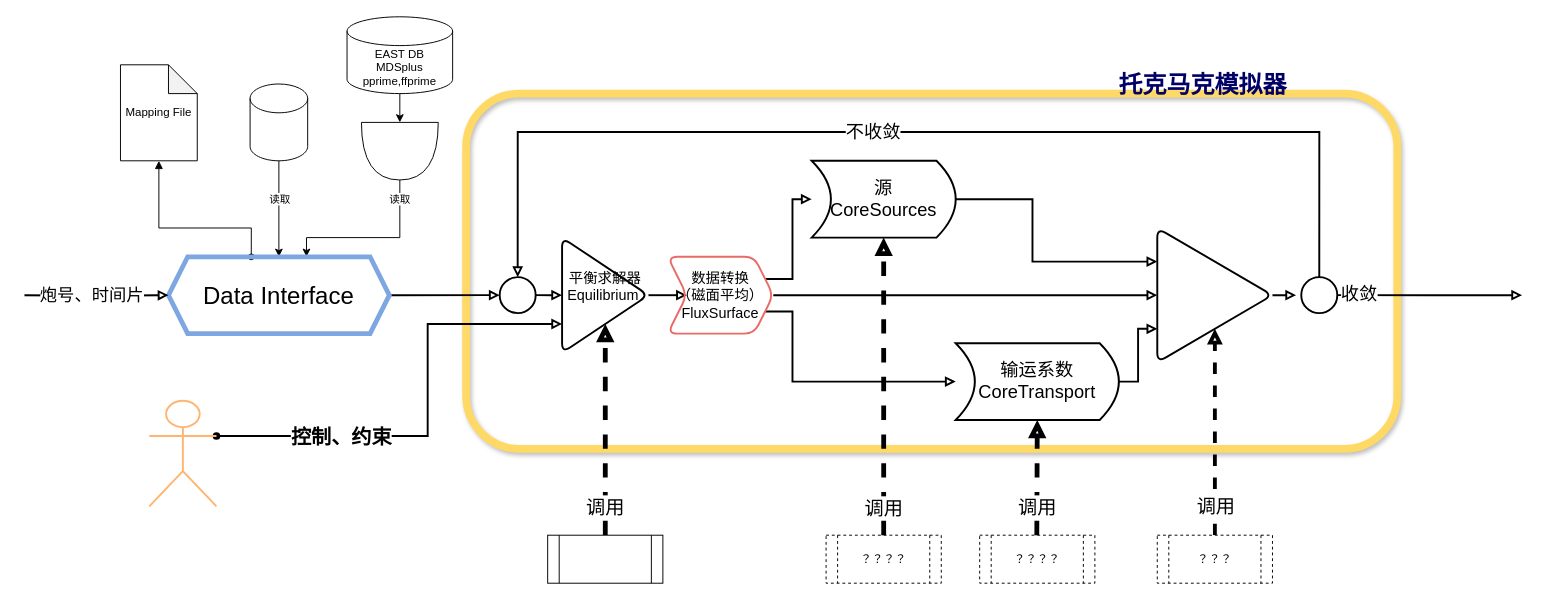
Some shapes in this 1547 by 600 pixel diagram are drawn without their labels. Here are the shapes that lost their labels. From the top down, the centre of each, then its label:
At point 278,122: "静态数据 Wall，PF".
At point 399,150: "MDSPlus DB Plugin".
At point 1214,295: "输运求解 TransportSolver".
At point 182,453: "用户".
At point 605,558: "FreeGS".
